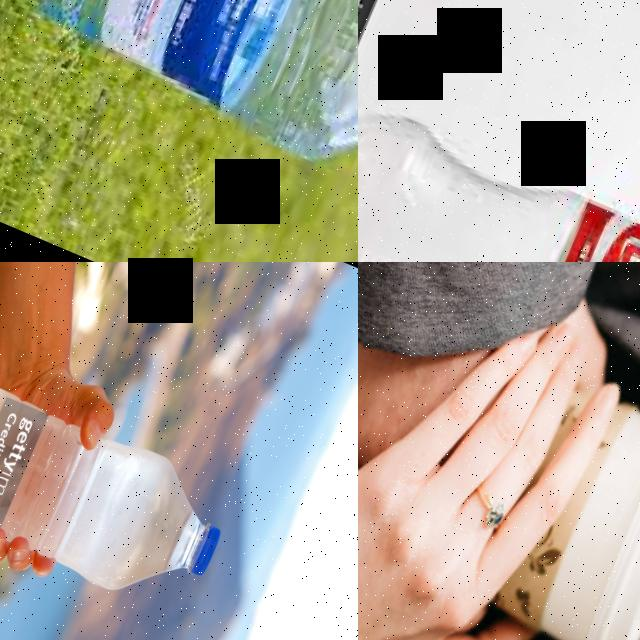bottle: (4, 0, 358, 215), (0, 348, 251, 630), (358, 88, 640, 262)
cup: (358, 281, 640, 640)
